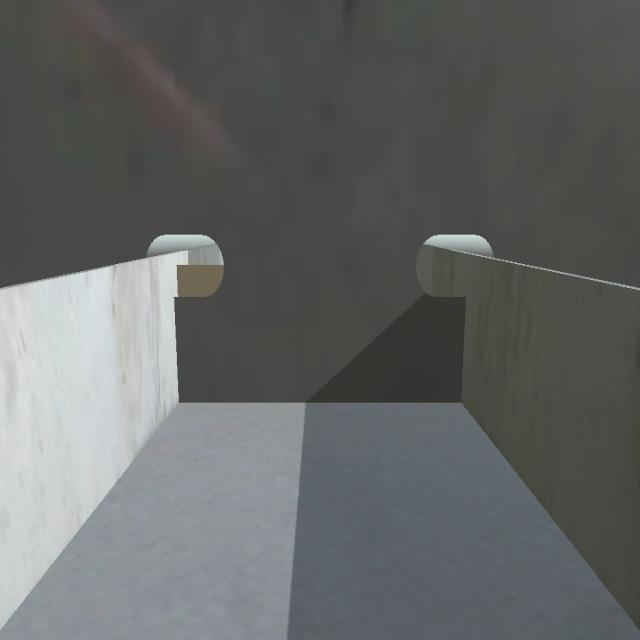fillet_yong_jeop_jang: (179, 396, 464, 412)
longi_yong_jeop_jang: (170, 261, 186, 414), (453, 297, 471, 405)
plate_behind: (174, 256, 232, 301)
